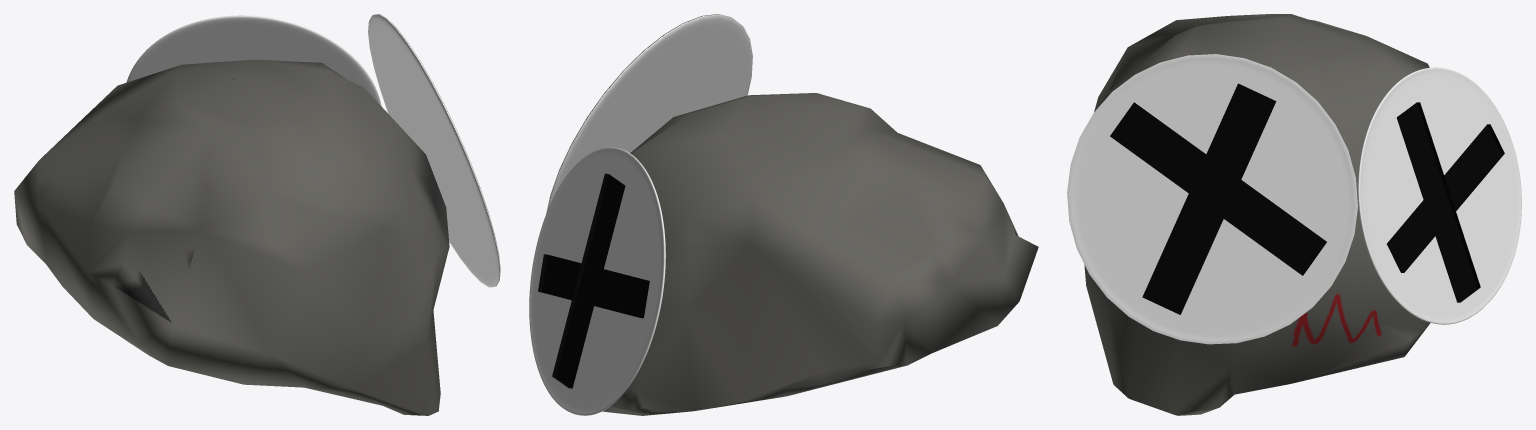
File: Petrock_Dead_V2.fbx
The picture shows the model from 3 angles, left to right: view 1: azimuth 30°, elevation 25°; view 2: azimuth 150°, elevation 25°; view 3: azimuth 270°, elevation 25°; orthographic projection. The views are drawn at different scales.
Parts seen in each view (by area): view 1: PetRock_mesh.002, Bakhlid_L.002, Bakhlid_R.002; view 2: PetRock_mesh.002, Bakhlid_R.002, Bakhlid_L.002, Plane.003; view 3: Bakhlid_L.002, PetRock_mesh.002, Bakhlid_R.002, Plane.001, Plane.003.
Boxes of the visible parts, bbox=[...] form: PetRock_mesh.002: bbox=[14, 59, 449, 415]; Bakhlid_L.002: bbox=[368, 14, 500, 287]; Bakhlid_R.002: bbox=[126, 15, 381, 105]; PetRock_mesh.002: bbox=[602, 93, 1038, 415]; Bakhlid_R.002: bbox=[529, 147, 665, 415]; Bakhlid_L.002: bbox=[546, 14, 752, 213]; Plane.003: bbox=[538, 173, 649, 388]; Bakhlid_L.002: bbox=[1067, 54, 1357, 344]; PetRock_mesh.002: bbox=[1084, 14, 1430, 415]; Bakhlid_R.002: bbox=[1358, 67, 1521, 324]; Plane.001: bbox=[1110, 83, 1326, 314]; Plane.003: bbox=[1387, 102, 1504, 302].
Size of the model in its own units: 364 by 319 by 371.
Materials: 3 (1 with a texture image).
